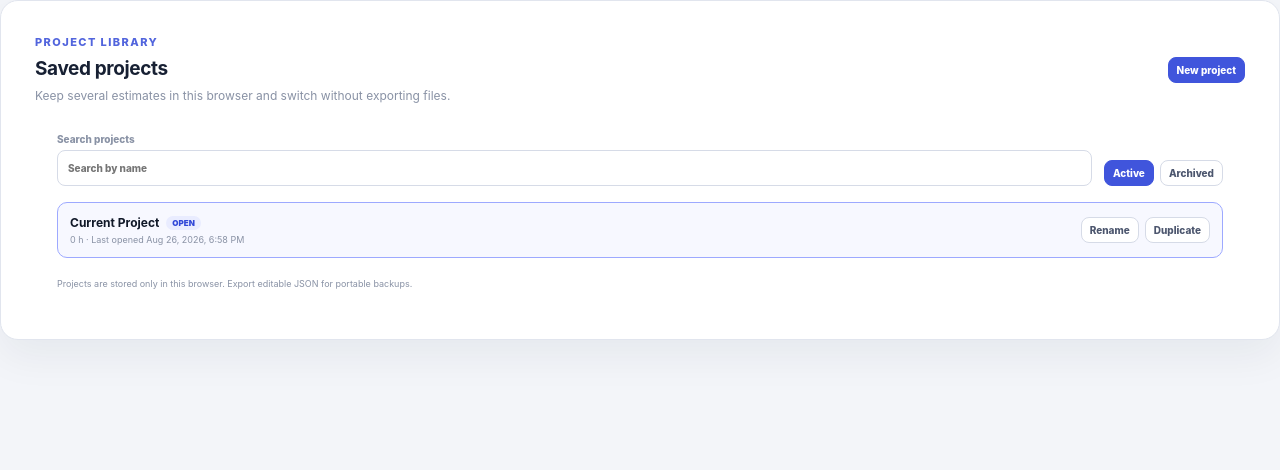
Test: ProjectWorkspacePanel › creates a new project while retaining the current project
This screenshot has width=1280, height=470.
Click the button "New project" at (1206, 70), box 1168,57 -> 1245,83
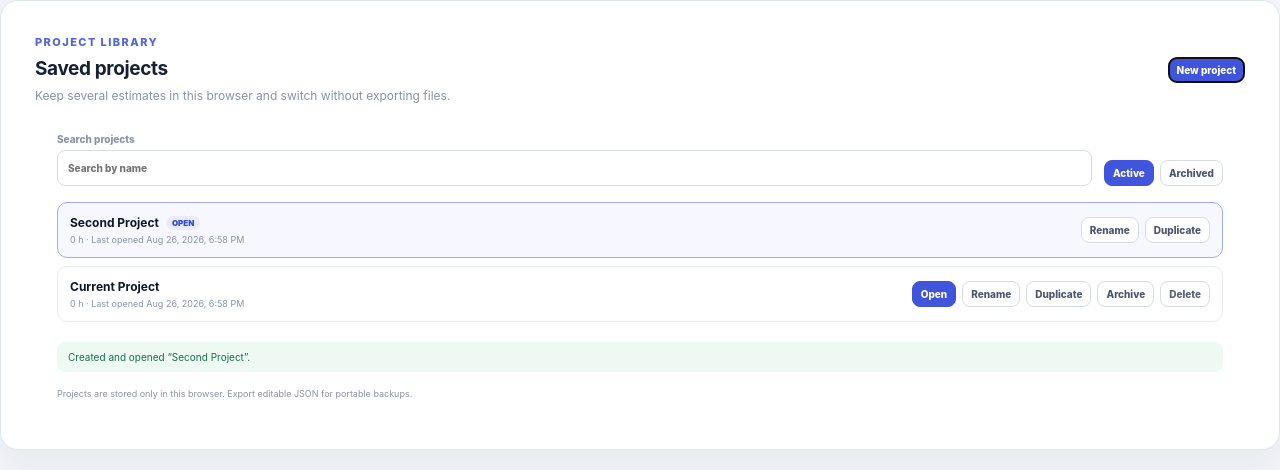
Check: the text "Current Project" is shown, box 70,279 -> 159,294
Check: the text "Second Project" is shown, box 70,215 -> 159,230
